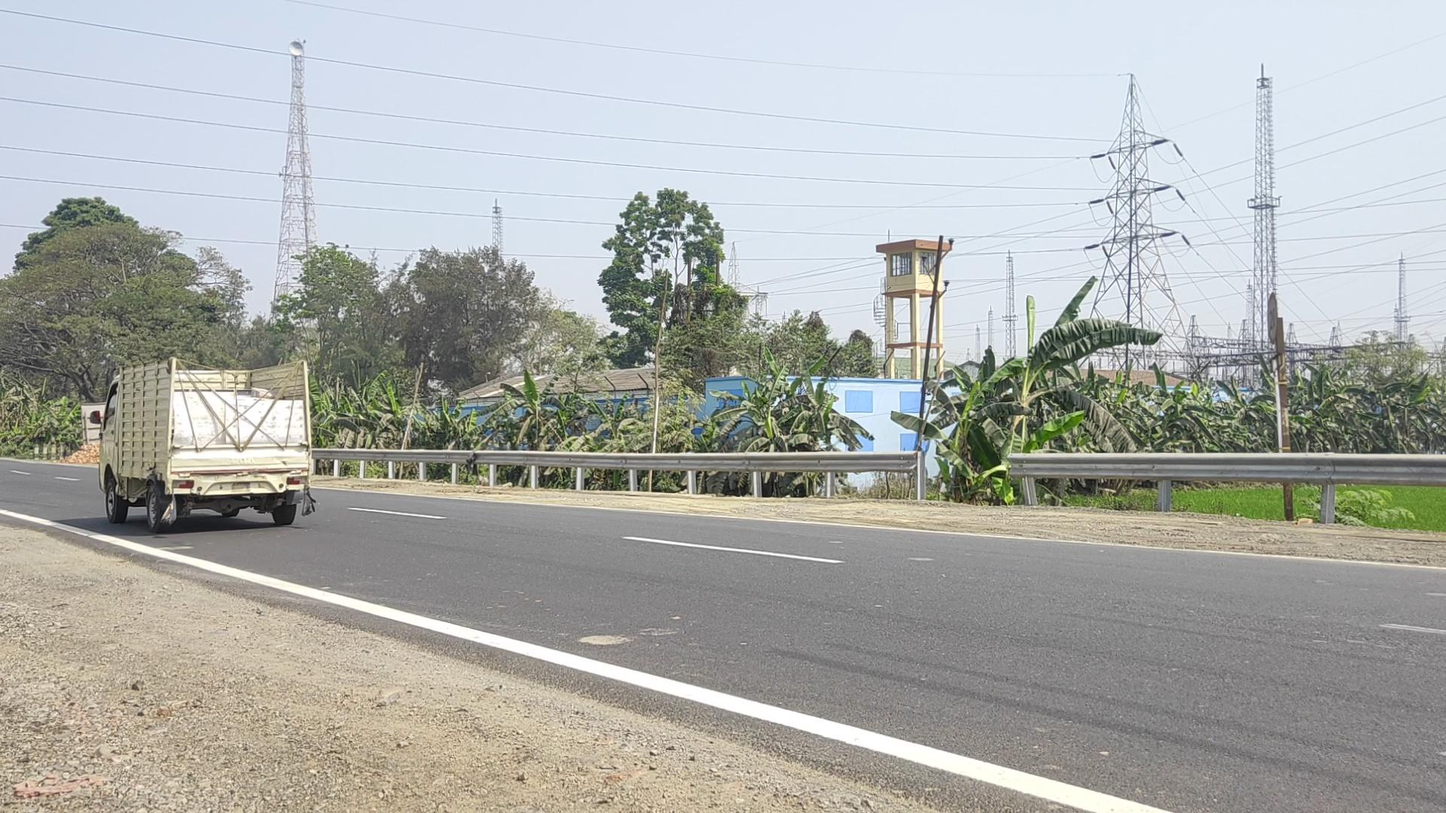van: (90, 357, 313, 532)
